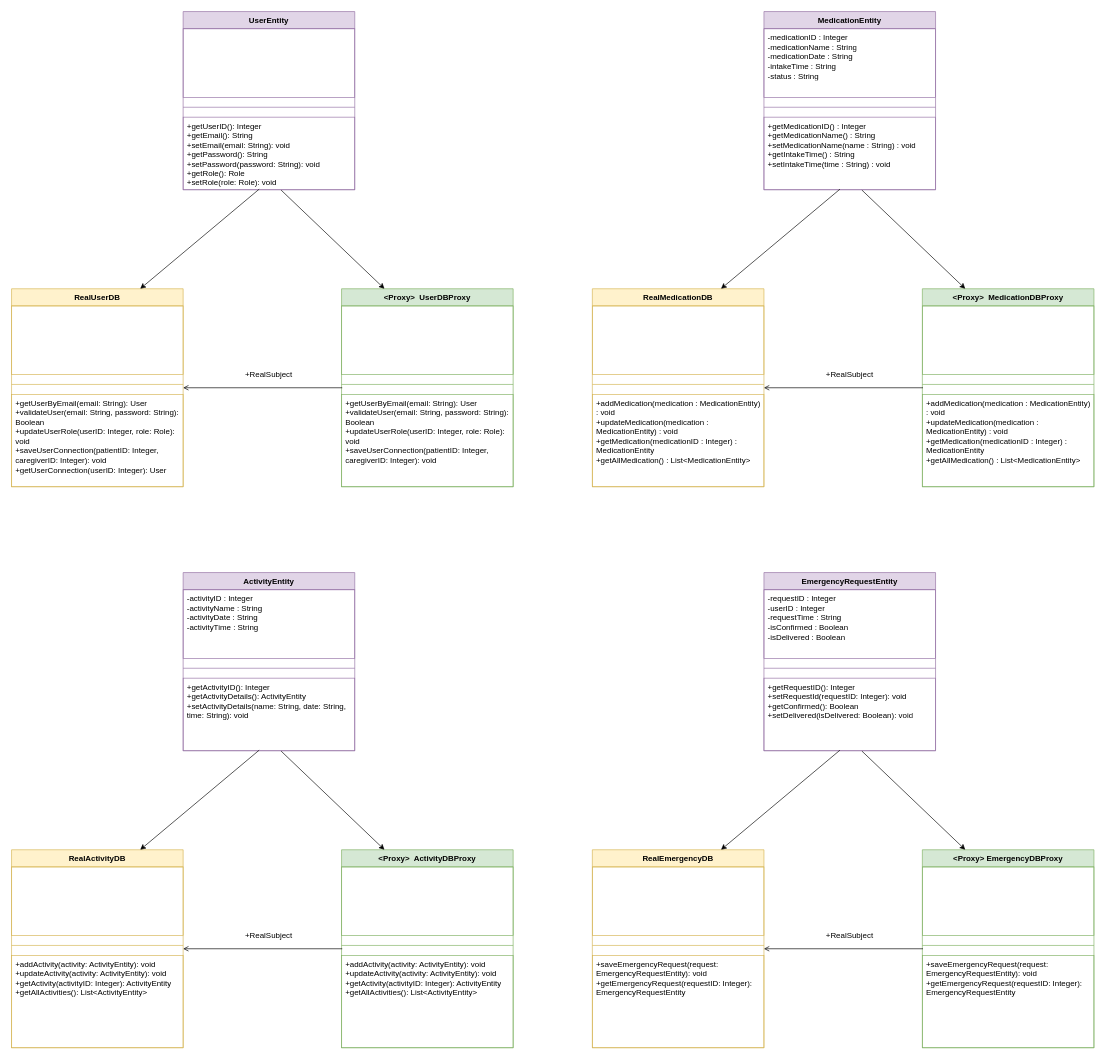
This 1106x1061 diagram has some shape labels left out. The shapes that lost their labels are listed below. From the top down, each one's centre as x and y in pixels, then its label:
At pixel 268 62: "-userID : Integer -email : String -password : String -role : Role".
At pixel 427 340: "-RealUserDB : RealUserDB -currentRole : Role".
At pixel 1008 340: "-RealMedicationDB : RealMedicationDB -currentRole : Role".
At pixel 427 901: "-RealActivityDB : RealActivityDB -currentRole : Role".
At pixel 1008 901: "-RealEmergencyDB : RealEmergencyDB -currentRole : Role".
